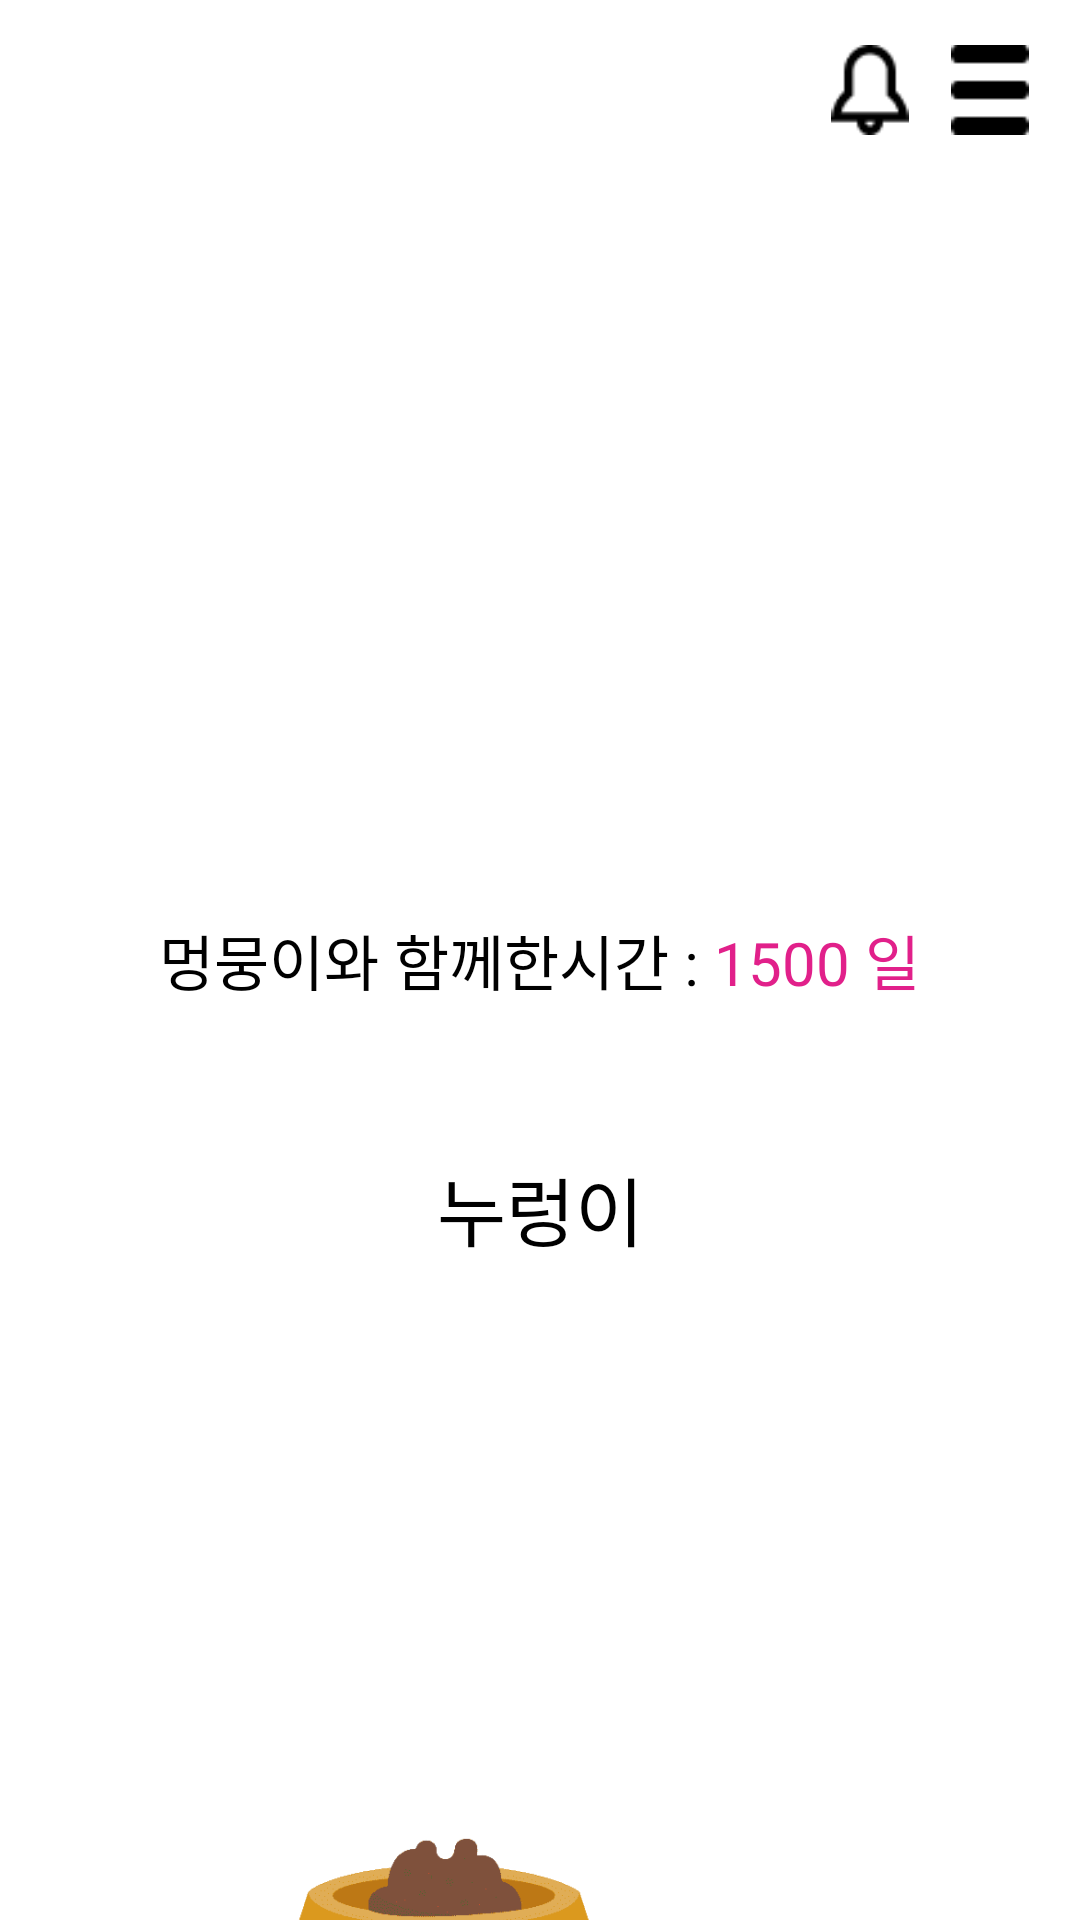

Locate icon controls on the screen. Image size 1080px×1920px, boxes as (x1, y1, x2, y2).
bell: (831, 45, 909, 135)
menu: (951, 45, 1029, 135)
